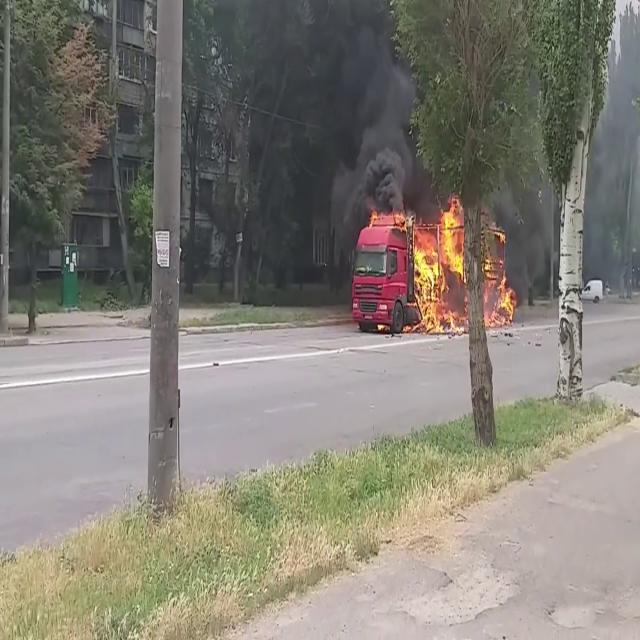Fire: (409, 200, 468, 332), (482, 228, 518, 322)
Smoke: (249, 2, 432, 218), (584, 6, 640, 300)
